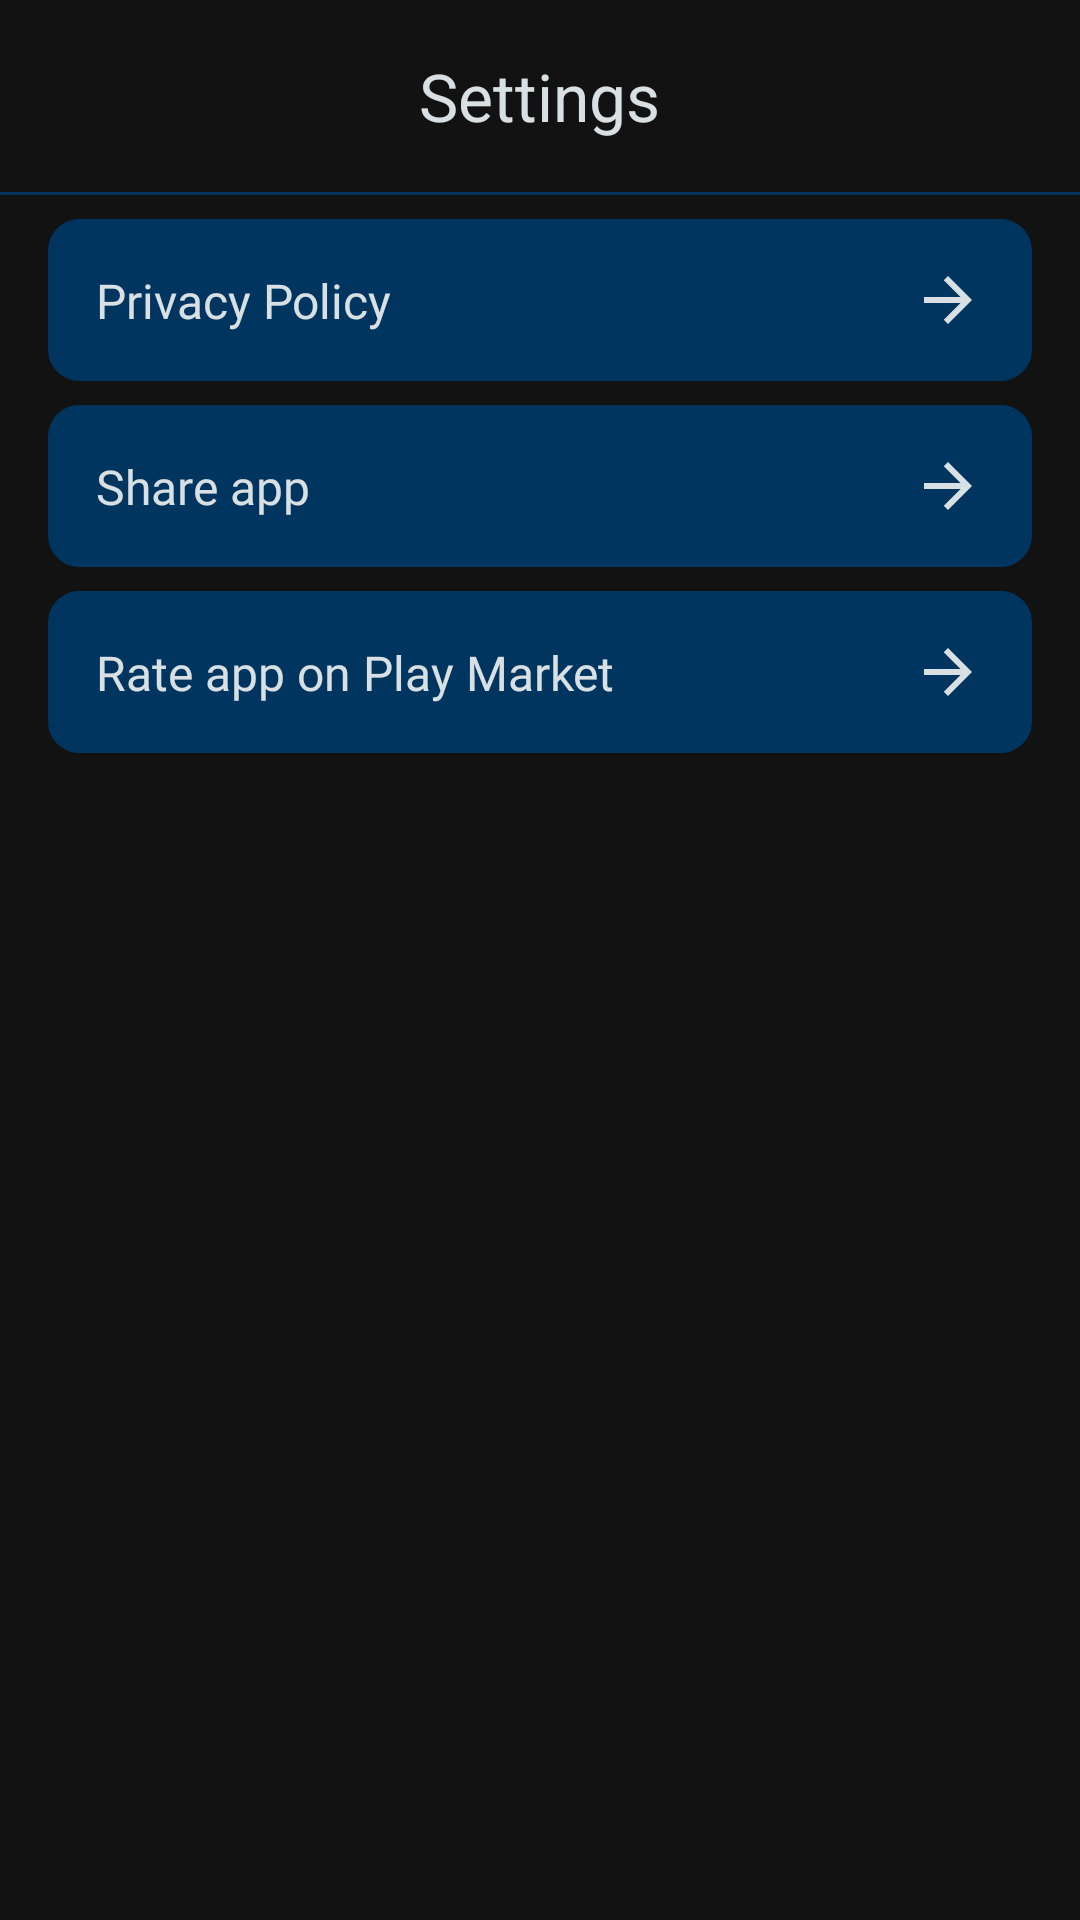

Where to tap for icons on this 1080 × 1920 app screen, as (x,y):
arrow right: (948,300), (948,486), (948,672)
